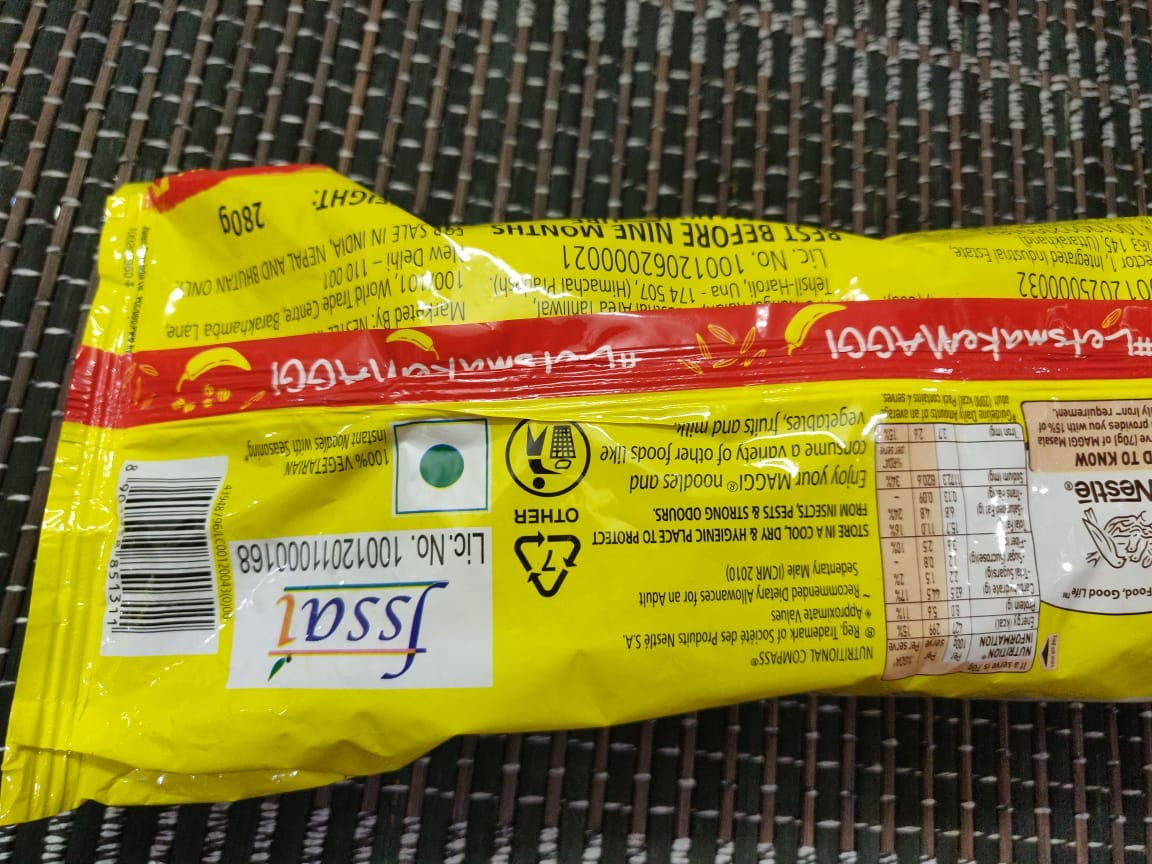barcode: (106, 459, 221, 647)
